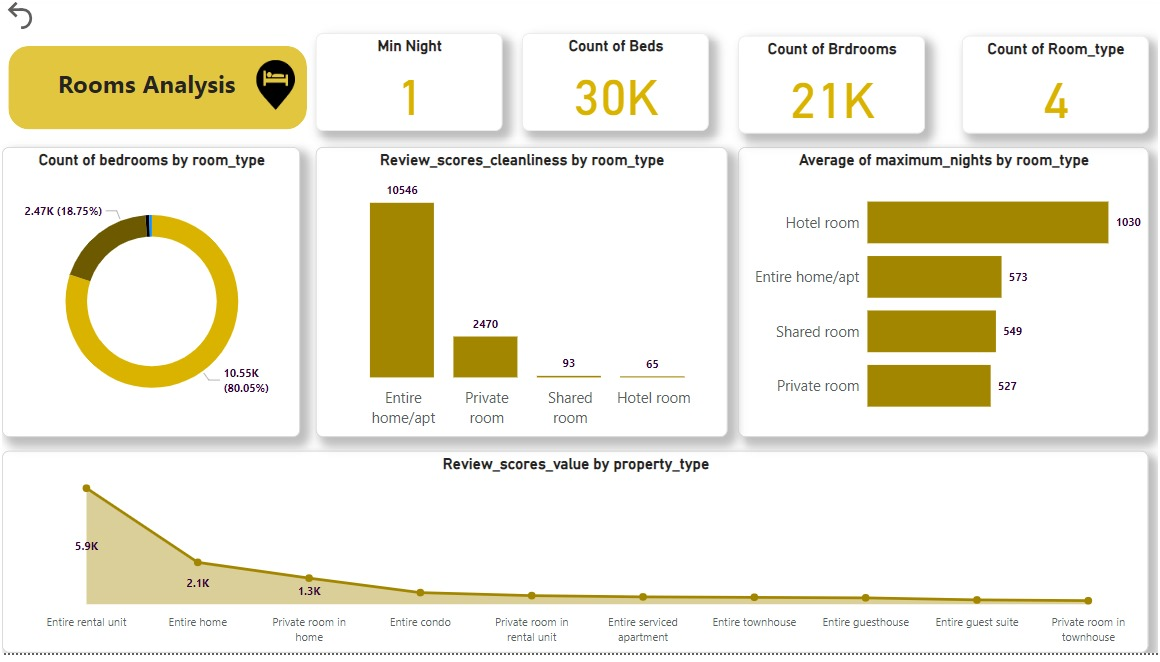

Layout of this report page (visuals, bound fields, positions):
{"tool":"powerbi","page":{"name":"Room","canvas":[1280,720],"ordinal":3},"visuals":[{"type":"donutChart","title":"Count of bedrooms by room_type","fields":{"Category":["Hotel Aggregator dataset.room_type"],"Y":["CountNonNull(Hotel Aggregator dataset.bedrooms)"]},"box":[0,164.5,327.5,318.1],"z":0},{"type":"stackedAreaChart","title":"Review_scores_value by property_type","fields":{"Category":["Hotel Aggregator dataset.property_type"],"Y":["CountNonNull(Hotel Aggregator dataset.review_scores_value)"]},"box":[0,498.2,1258.6,221.9],"z":1000},{"type":"columnChart","title":" Review_scores_cleanliness by room_type","fields":{"Y":["CountNonNull(Hotel Aggregator dataset.review_scores_cleanliness)"],"Category":["Hotel Aggregator dataset.room_type"]},"box":[344.5,164.5,451.6,318.1],"z":2000},{"type":"barChart","fields":{"Category":["Hotel Aggregator dataset.room_type"],"Y":["Avg(Hotel Aggregator dataset.maximum_nights)"]},"box":[808.5,164.5,450.1,318.1],"z":3000},{"type":"card","title":"Count of Room_type","fields":{"Values":["Count(Hotel Aggregator dataset.room_type)"]},"box":[1053.7,41.9,204.9,107.1],"z":4000},{"type":"card","title":"Min Night","fields":{"Values":["Min(Hotel Aggregator dataset.minimum_nights)"]},"box":[344.5,40.3,204.9,107.1],"z":5000},{"type":"card","title":"Count of Brdrooms","fields":{"Values":["Sum(Hotel Aggregator dataset.bedrooms)"]},"box":[808.5,41.9,204.9,107.1],"z":6000},{"type":"card","title":"Count of Beds","fields":{"Values":["Sum(Hotel Aggregator dataset.beds)"]},"box":[571.1,40.3,204.9,107.1],"z":7000},{"type":"shape","box":[6.9,53.5,328,91.9],"z":8000},{"type":"textbox","box":[56.3,71.4,244.3,64.5],"z":9000},{"type":"actionButton","box":[0,0,100,40],"z":10000},{"type":"image","box":[264.8,64.5,71.4,64.5],"z":11000}]}

Visuals, with their boxes in screenshot pixels (x1, y1, x2, y2), scaled from the page's 1280x720 canvas onto the 1160x662 screenshot:
"Count of bedrooms by room_type" donutChart: {"left": 0, "top": 151, "right": 297, "bottom": 444}
"Review_scores_value by property_type" stackedAreaChart: {"left": 0, "top": 458, "right": 1141, "bottom": 661}
" Review_scores_cleanliness by room_type" columnChart: {"left": 312, "top": 151, "right": 721, "bottom": 444}
barChart - Hotel Aggregator dataset.room_type x Avg(Hotel Aggregator dataset.maximum_nights): {"left": 733, "top": 151, "right": 1141, "bottom": 444}
"Count of Room_type" card: {"left": 955, "top": 39, "right": 1141, "bottom": 137}
"Min Night" card: {"left": 312, "top": 37, "right": 498, "bottom": 136}
"Count of Brdrooms" card: {"left": 733, "top": 39, "right": 918, "bottom": 137}
"Count of Beds" card: {"left": 518, "top": 37, "right": 703, "bottom": 136}
shape: {"left": 6, "top": 49, "right": 304, "bottom": 134}
textbox: {"left": 51, "top": 66, "right": 272, "bottom": 125}
actionButton: {"left": 0, "top": 0, "right": 91, "bottom": 37}
image: {"left": 240, "top": 59, "right": 305, "bottom": 119}
